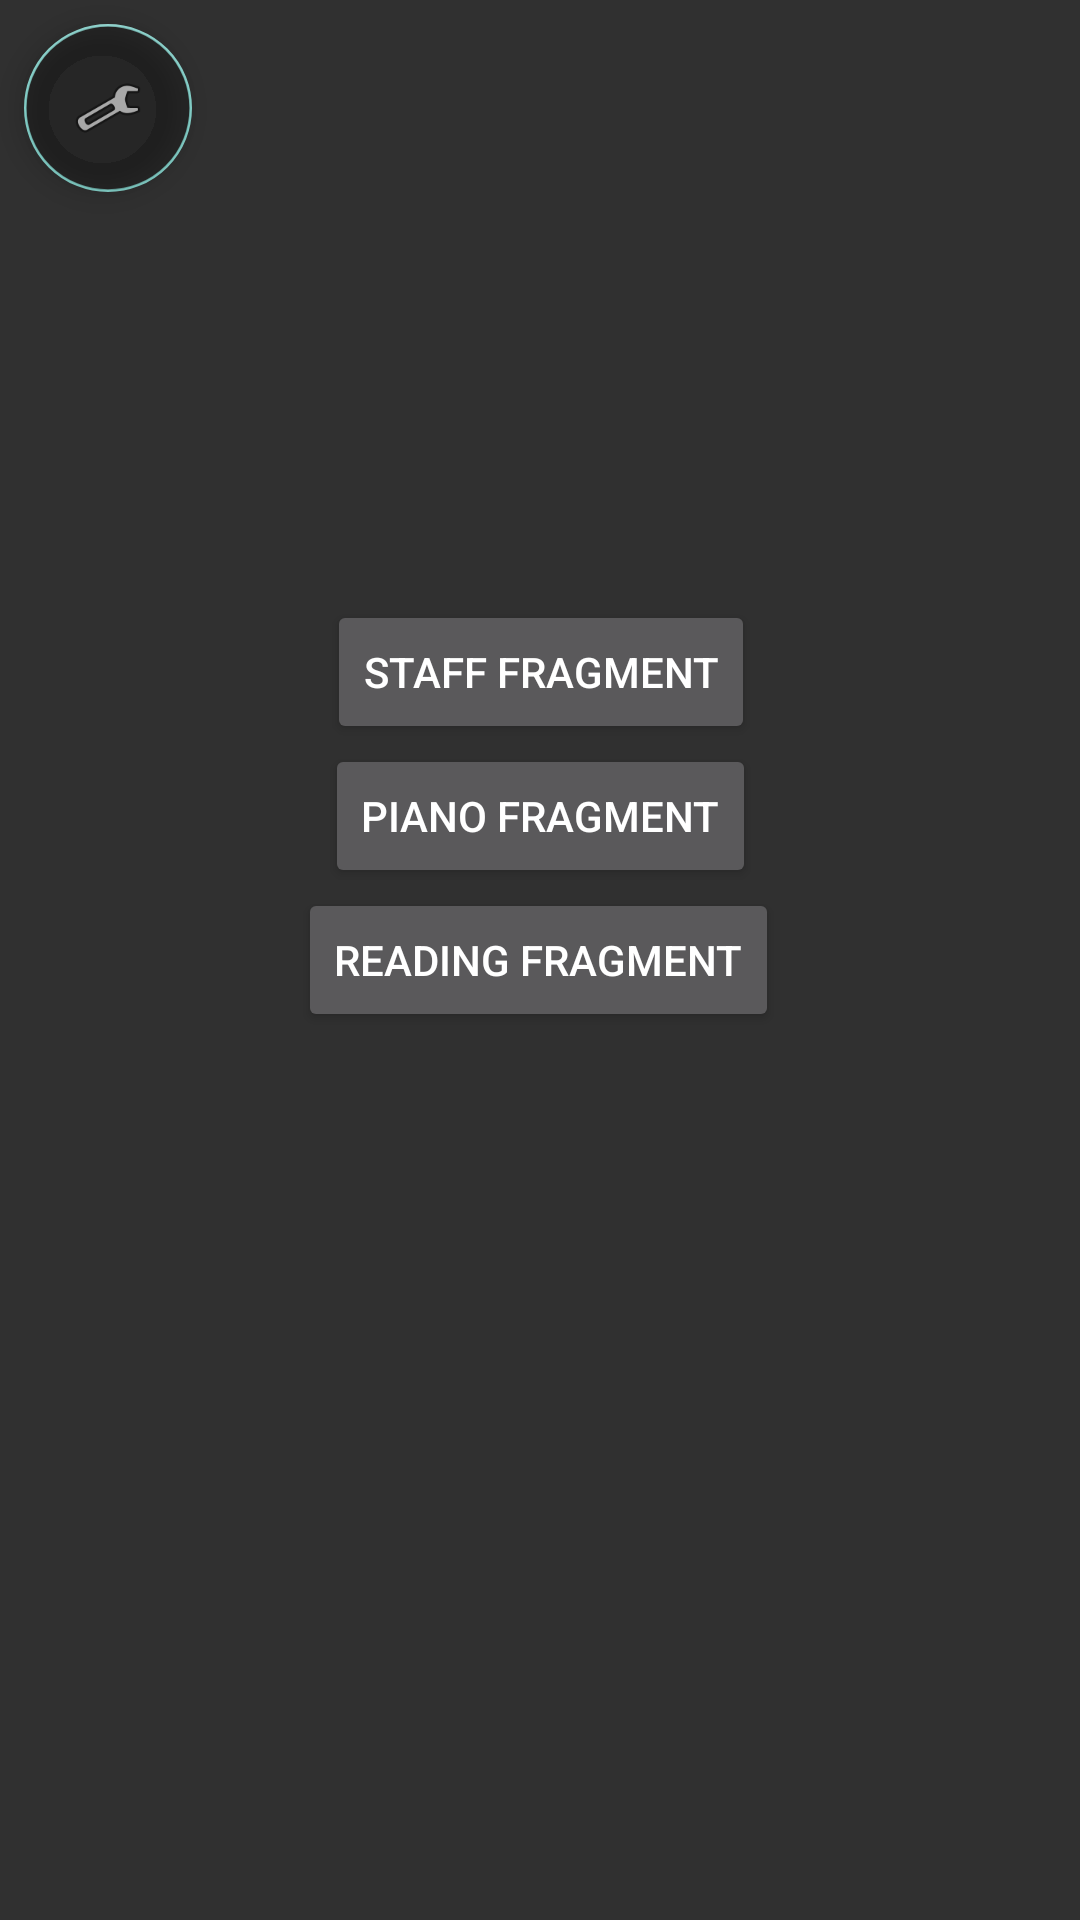

Screen size 1080 x 1920. Icon name, then its box in pixels as [x1, y1, x2, y2]:
preferences: [24, 24, 192, 192]
